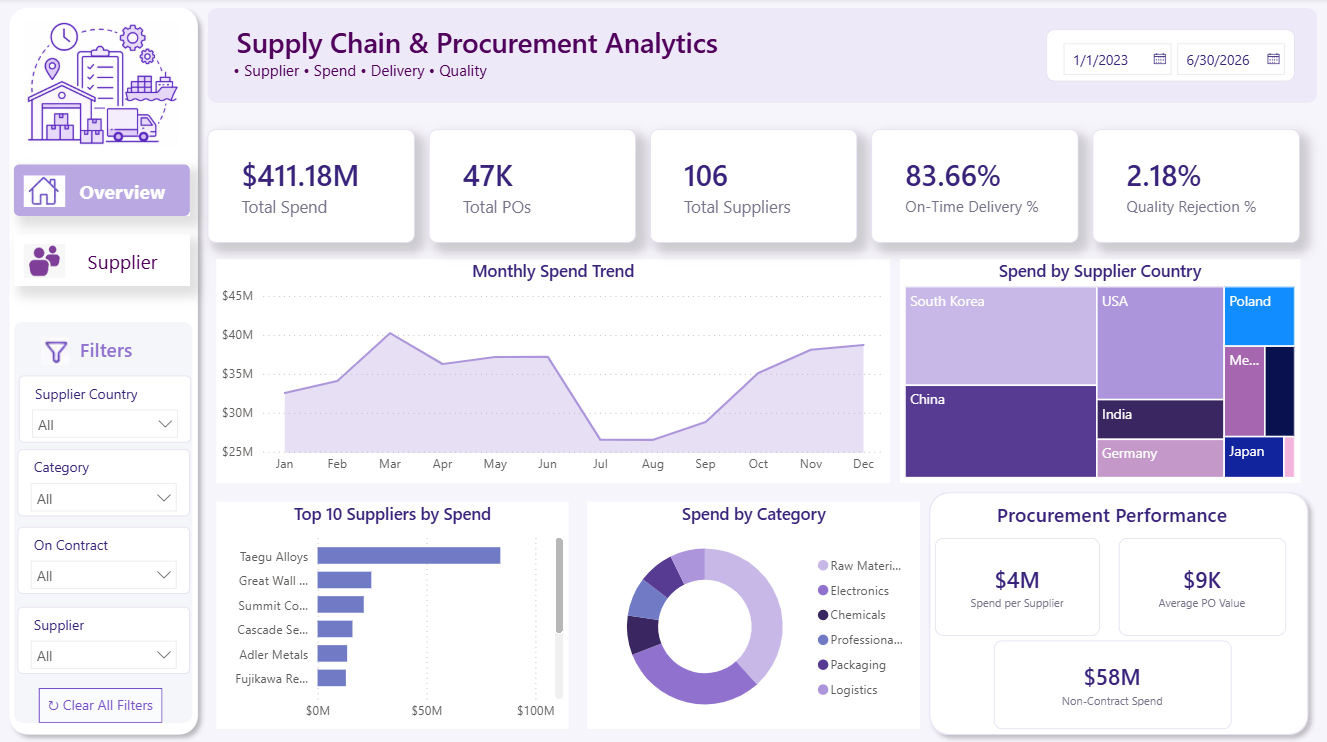

The dashboard page shown, as its layout file describes it:
{"tool":"powerbi","page":{"name":"Overview","canvas":[1280,720],"ordinal":0},"visuals":[{"type":"shape","box":[0,0,200,720],"z":0},{"type":"actionButton","box":[12.9,160.3,170,50],"z":0,"group":"g1"},{"type":"textbox","box":[62.2,168.4,111,36.2],"z":1000,"group":"g1"},{"type":"actionButton","box":[12.9,228,170,50],"z":1000},{"type":"textbox","box":[62.1,236.1,111,36.2],"z":1000,"group":"g2"},{"type":"image","box":[22.4,168.4,39.8,35],"z":2000,"group":"g1"},{"type":"image","box":[22.3,236.1,39.8,35],"z":2000,"group":"g2"},{"type":"shape","box":[13.3,312.5,172.5,387.3],"z":2000},{"type":"textbox","box":[21.7,322.6,161.4,37.4],"z":3000},{"type":"image","box":[40.1,327.5,27.1,27.7],"z":4000},{"type":"image","box":[17.9,22.7,160,120],"z":5000},{"type":"shape","box":[200.3,9.7,1071.3,91.7],"z":6000},{"type":"textbox","box":[208.7,19.3,815.6,71.2],"z":7000},{"type":"cardVisual","fields":{"Data":["_measures.Total Spend"]},"box":[200.3,126.4,200.3,109.8],"z":8000},{"type":"areaChart","title":"Monthly Spend Trend","fields":{"Category":["date.Month"],"Y":["_measures.Total Spend"]},"box":[208.7,252.1,650.3,216],"z":9000},{"type":"donutChart","title":"Spend by Category","fields":{"Category":["purchase_orders.category"],"Y":["_measures.Total Spend"]},"box":[567,486.2,320.9,219.6],"z":10000},{"type":"clusteredBarChart","title":"Top 10 Suppliers by Spend","fields":{"Category":["purchase_orders.supplier_name"],"Y":["_measures.Total Spend"]},"box":[208.7,486.2,340.2,219.6],"z":11000},{"type":"slicer","fields":{"Values":["date.Date"]},"box":[1009.8,30.2,240.1,50.7],"z":12000},{"type":"group","id":"g1","title":"Group 1","box":[12.9,160.3,170,50],"z":13000},{"type":"slicer","fields":{"Values":["purchase_orders.supplier_country"]},"box":[18.1,364.3,166.5,65.1],"z":14000},{"type":"slicer","fields":{"Values":["purchase_orders.category"]},"box":[16.9,435.5,166.5,65.1],"z":15000},{"type":"slicer","fields":{"Values":["purchase_orders.on_contract"]},"box":[16.9,510.3,166.5,65.1],"z":16000},{"type":"slicer","fields":{"Values":["purchase_orders.supplier_name"]},"box":[16.9,587.5,166.5,65.1],"z":17000},{"type":"actionButton","box":[37.4,666,119.4,33.8],"z":18000},{"type":"group","id":"g2","title":"Group 2","box":[22.3,236.1,150.8,36.2],"z":19000},{"type":"cardVisual","fields":{"Data":["_measures.Total POs"]},"box":[413.8,126.4,200.3,109.8],"z":20000},{"type":"cardVisual","fields":{"Data":["_measures.Total Suppliers"]},"box":[627.3,126.4,200.3,109.8],"z":21000},{"type":"cardVisual","fields":{"Data":["_measures.On-Time Delivery %"]},"box":[840.9,126.4,200.3,109.8],"z":22000},{"type":"cardVisual","fields":{"Data":["_measures.Quality Rejection %"]},"box":[1054.4,126.4,200.3,109.8],"z":23000},{"type":"treemap","title":"Spend by Supplier Country","fields":{"Group":["purchase_orders.supplier_country"],"Values":["_measures.Total Spend"]},"box":[868.6,252.1,386.1,216],"z":24000},{"type":"shape","box":[887.9,468.1,383.6,252.1],"z":25000},{"type":"textbox","box":[922.9,481.4,300.4,39.8],"z":26000},{"type":"cardVisual","fields":{"Data":["_measures.Spend per Supplier"]},"box":[902.4,521.2,159.3,94.1],"z":27000},{"type":"cardVisual","fields":{"Data":["_measures.Average PO Value"]},"box":[1079.8,521.2,161.7,94.1],"z":28000},{"type":"cardVisual","fields":{"Data":["_measures.Non-Contract Spend"]},"box":[959.1,620.1,229.2,85.7],"z":29000}]}

Visuals, with their boxes in screenshot pixels (x1, y1, x2, y2), scaled from the page's 1280x720 canvas onto the 1327x742 screenshot:
shape: 0 0 207 741
actionButton: 13 165 190 217
textbox: 64 174 180 211
actionButton: 13 235 190 286
textbox: 64 243 179 281
image: 23 174 64 210
image: 23 243 64 279
shape: 14 322 193 721
textbox: 22 332 190 371
image: 42 338 70 366
image: 19 23 184 147
shape: 208 10 1318 104
textbox: 216 20 1062 93
cardVisual - _measures.Total Spend: 208 130 415 243
"Monthly Spend Trend" areaChart: 216 260 891 482
"Spend by Category" donutChart: 588 501 921 727
"Top 10 Suppliers by Spend" clusteredBarChart: 216 501 569 727
slicer - date.Date: 1047 31 1296 83
"Group 1" group: 13 165 190 217
slicer - purchase_orders.supplier_country: 19 375 191 443
slicer - purchase_orders.category: 18 449 190 516
slicer - purchase_orders.on_contract: 18 526 190 593
slicer - purchase_orders.supplier_name: 18 605 190 673
actionButton: 39 686 163 721
"Group 2" group: 23 243 179 281
cardVisual - _measures.Total POs: 429 130 637 243
cardVisual - _measures.Total Suppliers: 650 130 858 243
cardVisual - _measures.On-Time Delivery %: 872 130 1079 243
cardVisual - _measures.Quality Rejection %: 1093 130 1301 243
"Spend by Supplier Country" treemap: 900 260 1301 482
shape: 921 482 1318 741
textbox: 957 496 1268 537
cardVisual - _measures.Spend per Supplier: 936 537 1101 634
cardVisual - _measures.Average PO Value: 1119 537 1287 634
cardVisual - _measures.Non-Contract Spend: 994 639 1232 727
